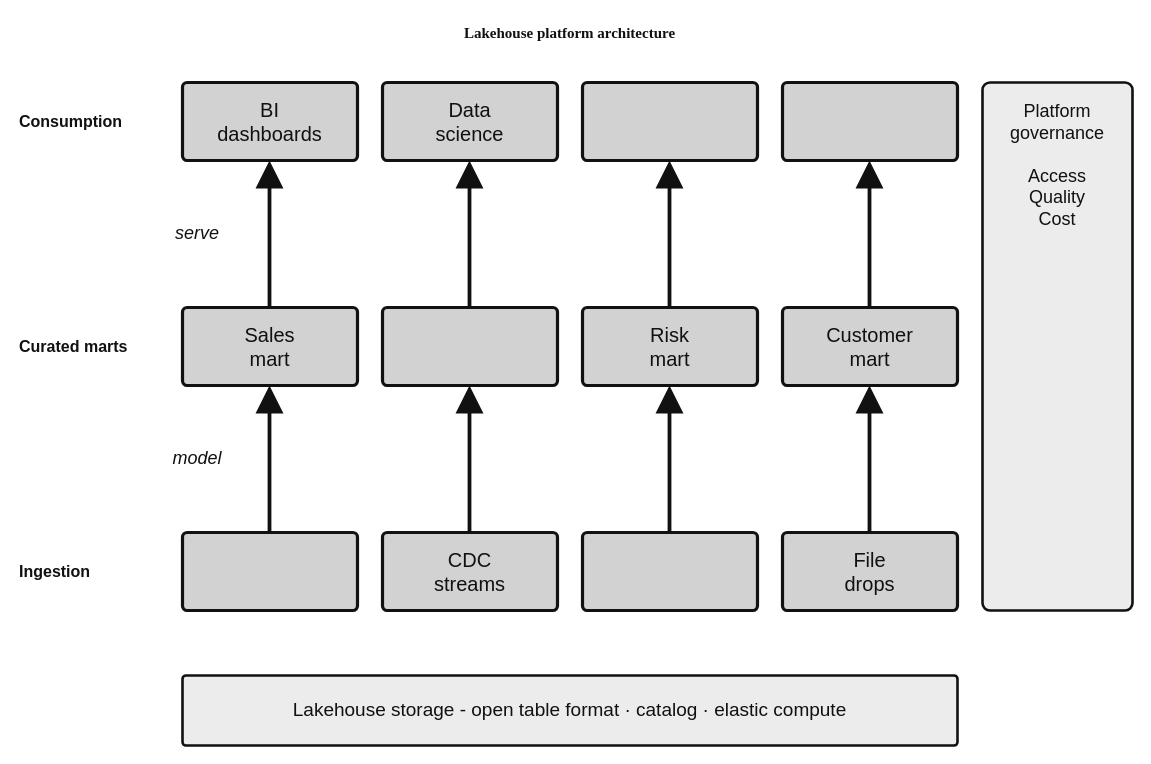
The diagram is 1151 pixels wide and 764 high, and some of its shapes have lost their labels. The shapes that lost their labels are listed below. From the top down, each one's box as (x1, y1, x2, y2) in pixels, then its label:
(580, 80, 759, 162): Ad-hoc SQL
(780, 80, 959, 162): Data APIs
(380, 305, 559, 387): Finance mart
(180, 530, 359, 612): Batch loads
(580, 530, 759, 612): Event streams
